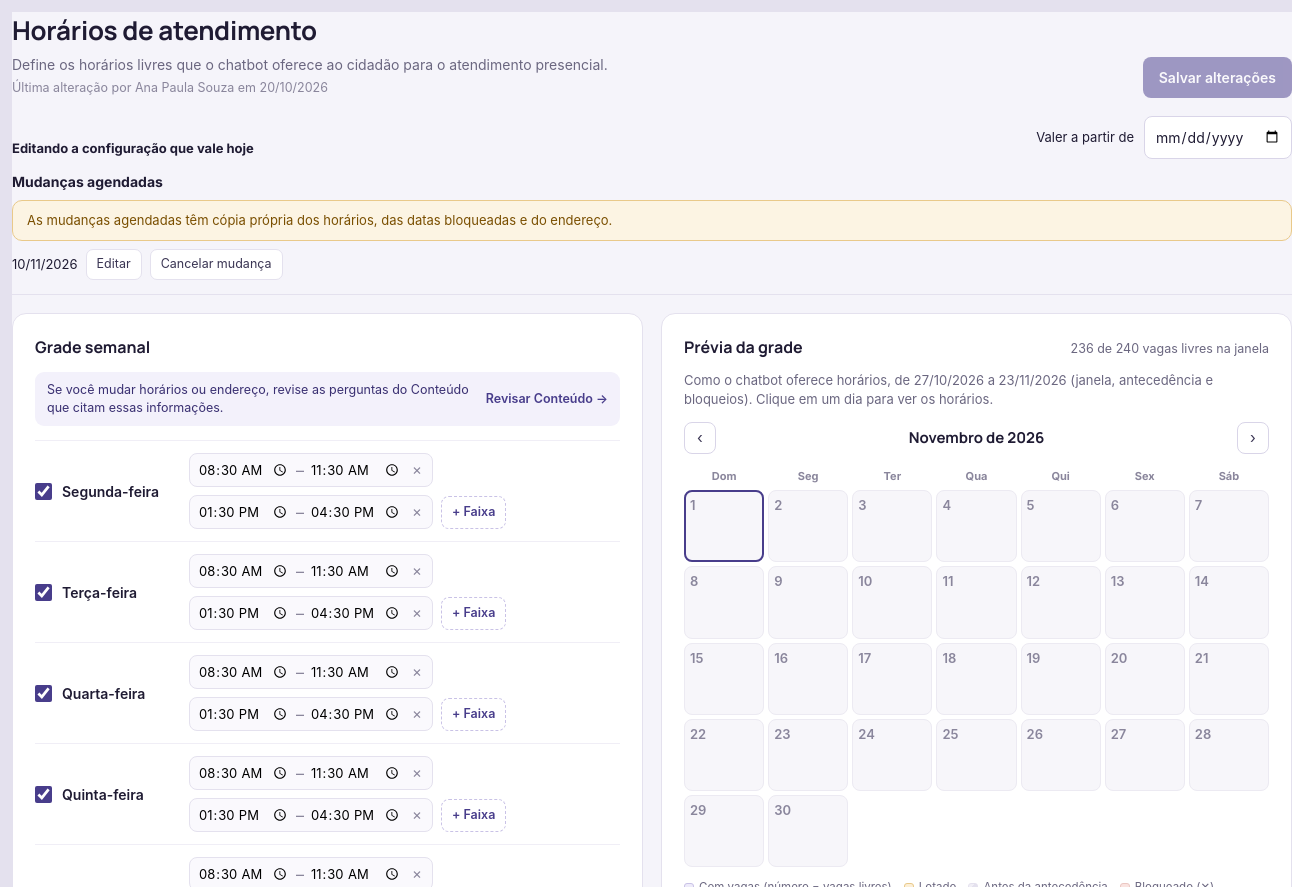
Test case: SchedulePage › carrega uma mudança agendada para edição pela data de início
The image size is (1292, 887).
Expected: the checkbox labelled "Segunda-feira" is shown, [35,483,52,500]
Expected: the text "10/11/2026" is shown, [12,255,78,274]
Step 1. Type "2026-11-10" into the date field labelled "Valer a partir de" → (1218, 137), box [1144,116,1291,159]
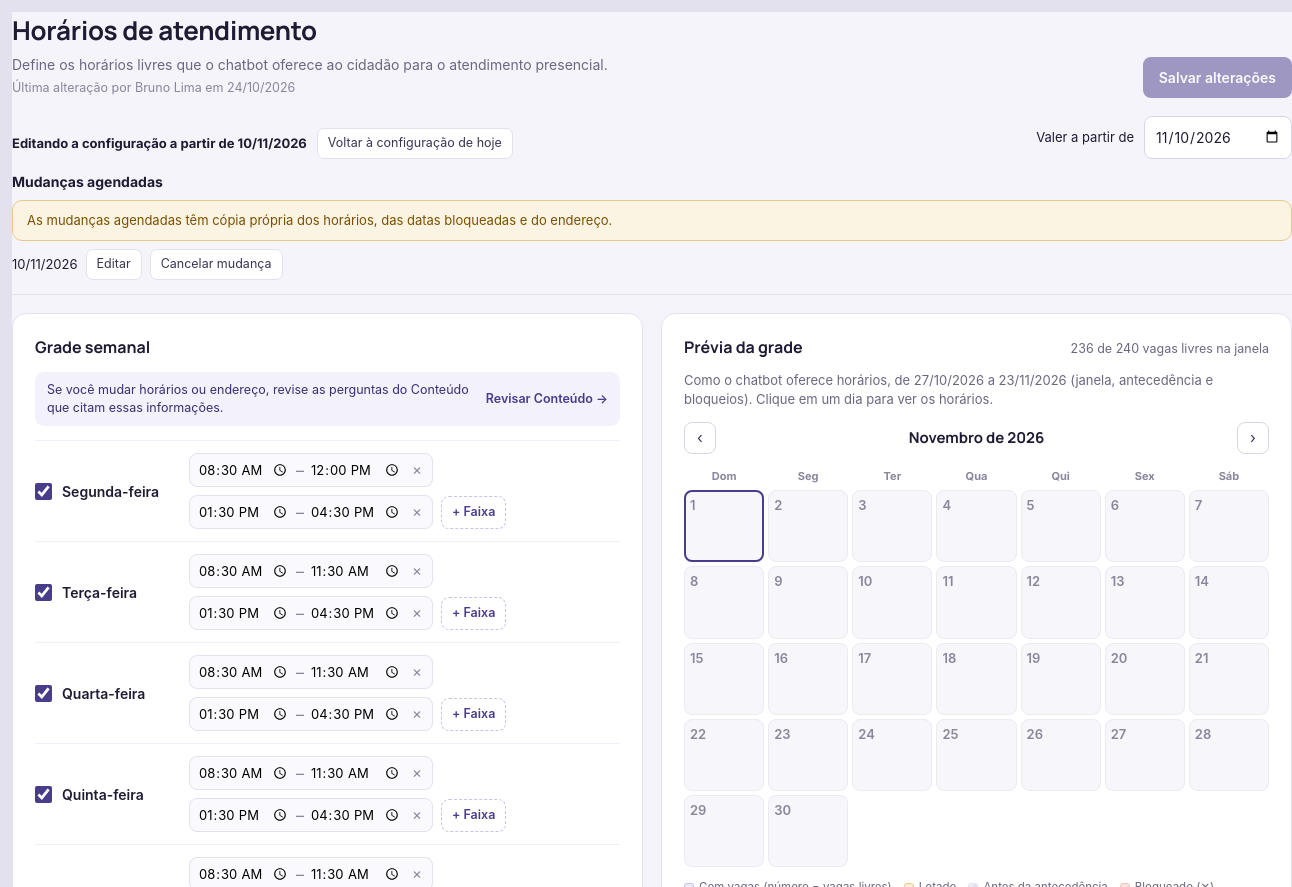
Expected: the text "Editando a configuração a partir de 10/11/2026" is shown, [12,134,307,153]
